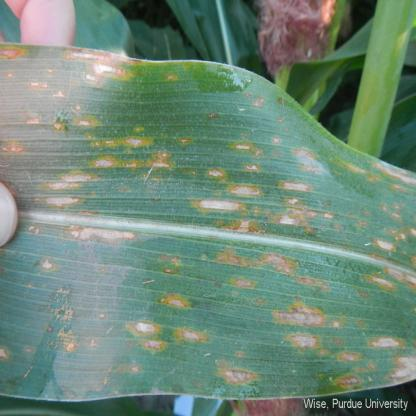corn gray leaf spot: (16, 38, 416, 402)
